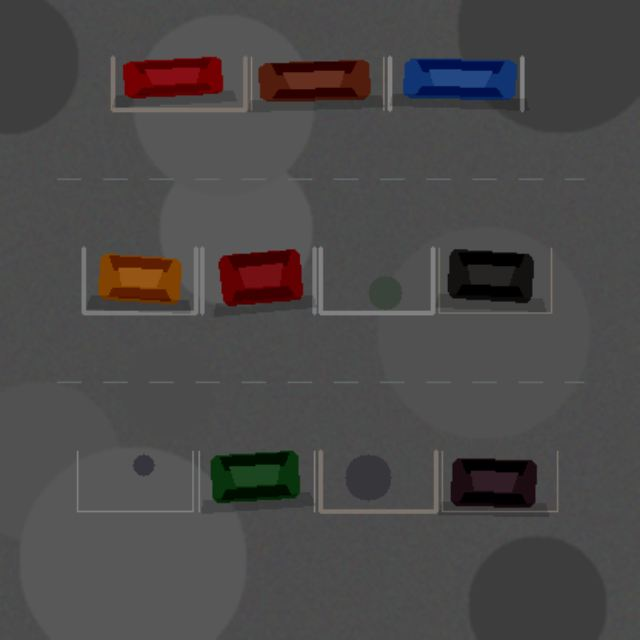space-empty: (320, 248, 432, 312), (77, 451, 192, 511), (320, 451, 435, 511)
space-occupied: (438, 248, 551, 312), (83, 248, 195, 312), (202, 248, 314, 312), (198, 451, 314, 511), (112, 57, 245, 109), (389, 57, 522, 109), (442, 451, 557, 511), (251, 57, 383, 109)
